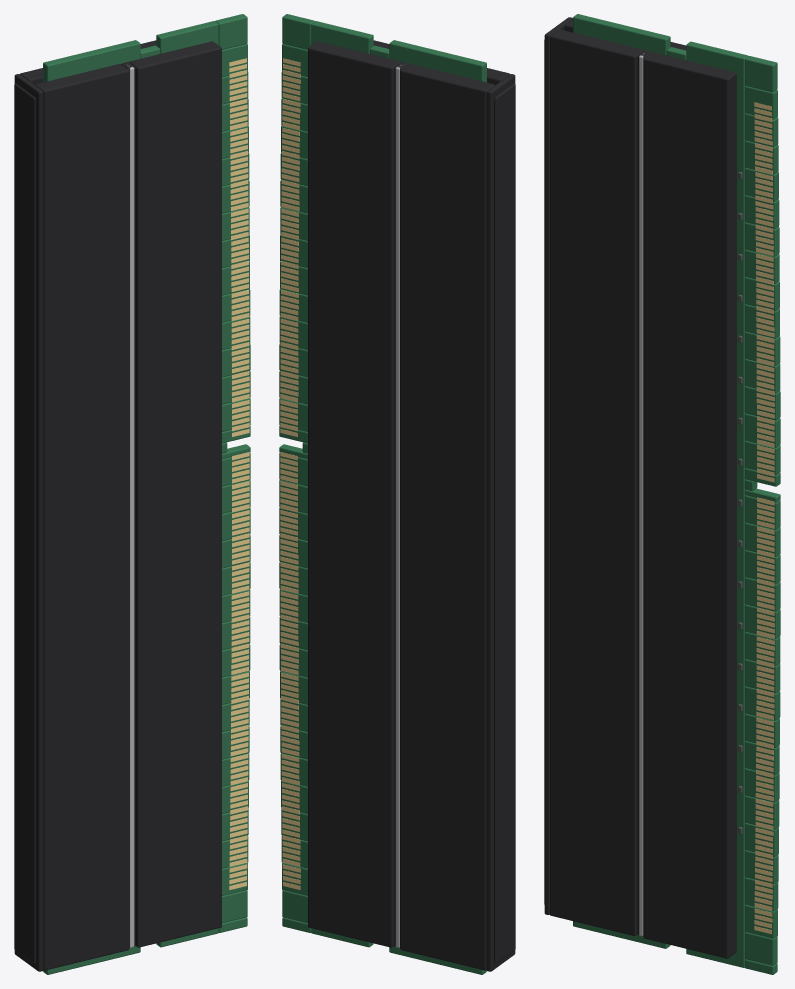
File: RAM_DDR4.glb
The picture shows the model from 3 angles, left to right: view 1: azimuth 30°, elevation 25°; view 2: azimuth 150°, elevation 25°; view 3: azimuth 330°, elevation 25°; orthographic projection.
Parts seen in each view (by area): view 1: RAM_DDR4_Heatspreader, RAM_DDR4_PCB, RAM_DDR4_Contacts; view 2: RAM_DDR4_Heatspreader, RAM_DDR4_PCB, RAM_DDR4_Contacts; view 3: RAM_DDR4_Heatspreader, RAM_DDR4_PCB, RAM_DDR4_Contacts.
Boxes of the visible parts, box(x1,y1,x2,y2) form: RAM_DDR4_Heatspreader: box(14, 40, 221, 971); RAM_DDR4_PCB: box(43, 14, 250, 974); RAM_DDR4_Contacts: box(229, 58, 249, 889); RAM_DDR4_Heatspreader: box(308, 40, 515, 971); RAM_DDR4_PCB: box(279, 14, 486, 974); RAM_DDR4_Contacts: box(280, 58, 300, 889); RAM_DDR4_Heatspreader: box(544, 17, 736, 958); RAM_DDR4_PCB: box(573, 14, 780, 974); RAM_DDR4_Contacts: box(754, 102, 774, 934).
Size of the model in its own units: 0.0345 by 0.1334 by 0.0066.
